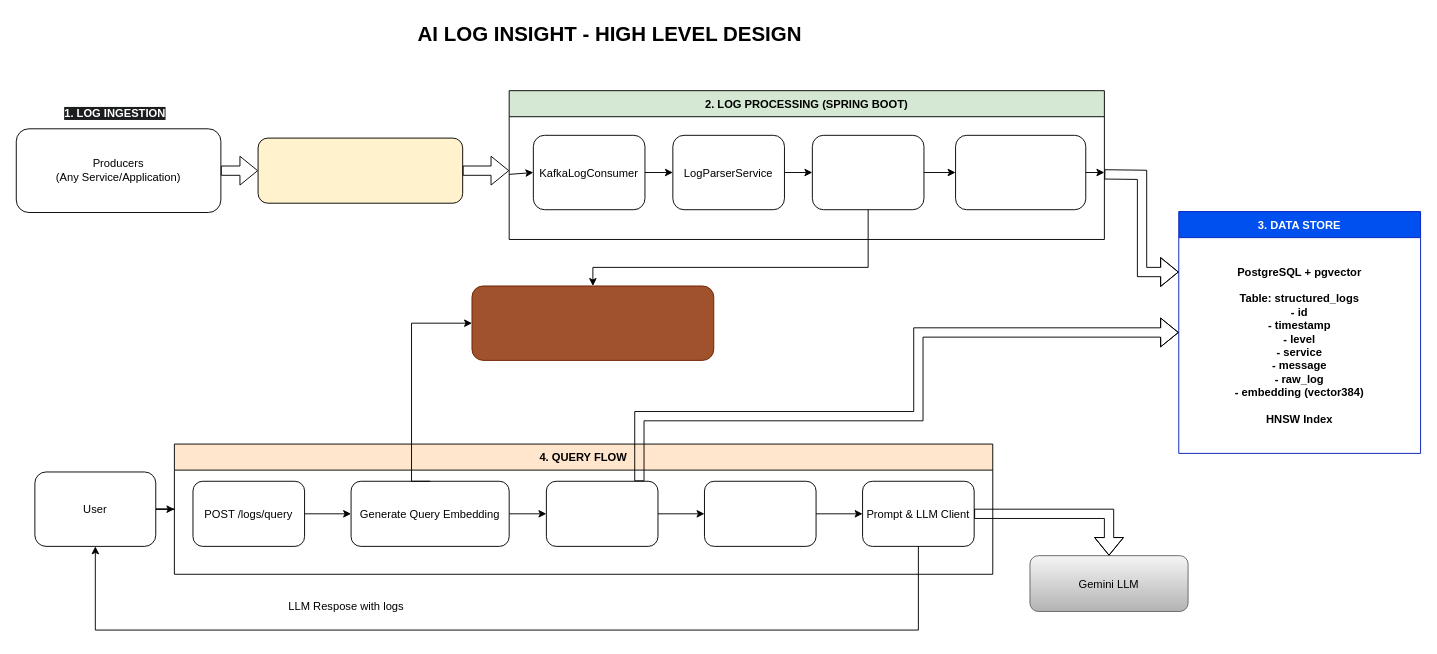
Image size: 1437x654. Some labels were removed from this diagram. Each missing label, with the centre of its shape:
"Apache Kafka Topic: raw-logs" goes at point (360, 170).
"Embedding Service (Python/FastAPI)" goes at point (592, 322).
"EmbeddingClient" goes at point (867, 172).
"LogUpdateService" goes at point (1020, 172).
"Similarity Search (pgvector)" goes at point (601, 513).
"Top K Logs" goes at point (760, 513).
